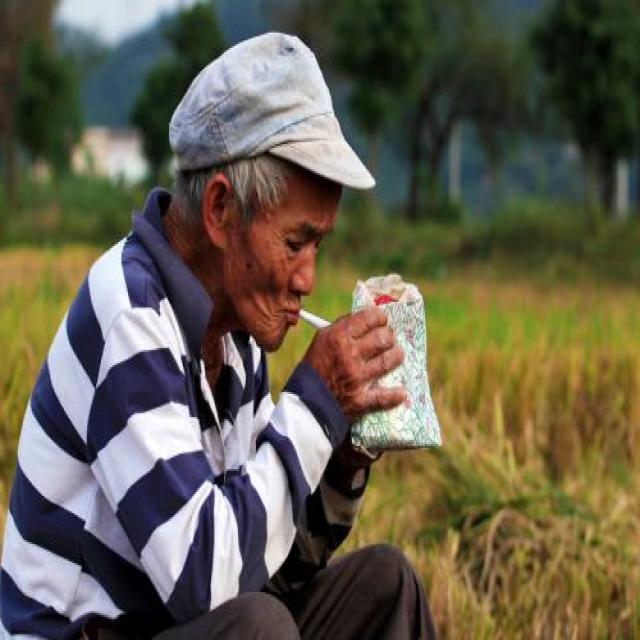smoking: (291, 294, 355, 341)
